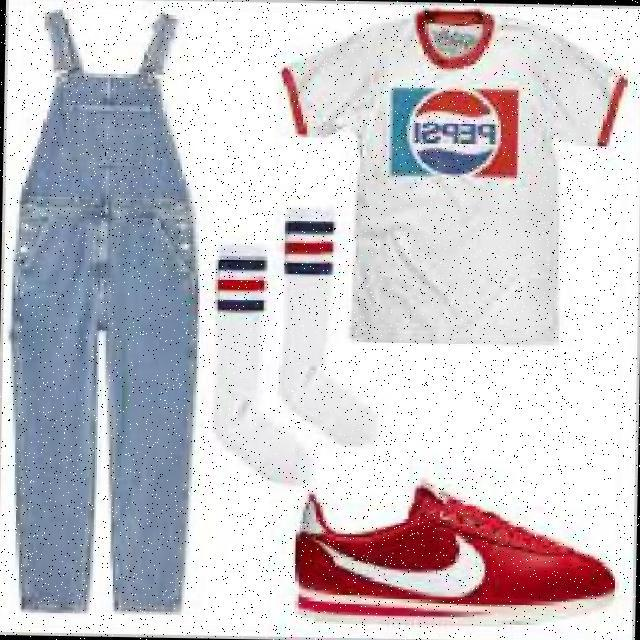Nike: (310, 526, 494, 595)
